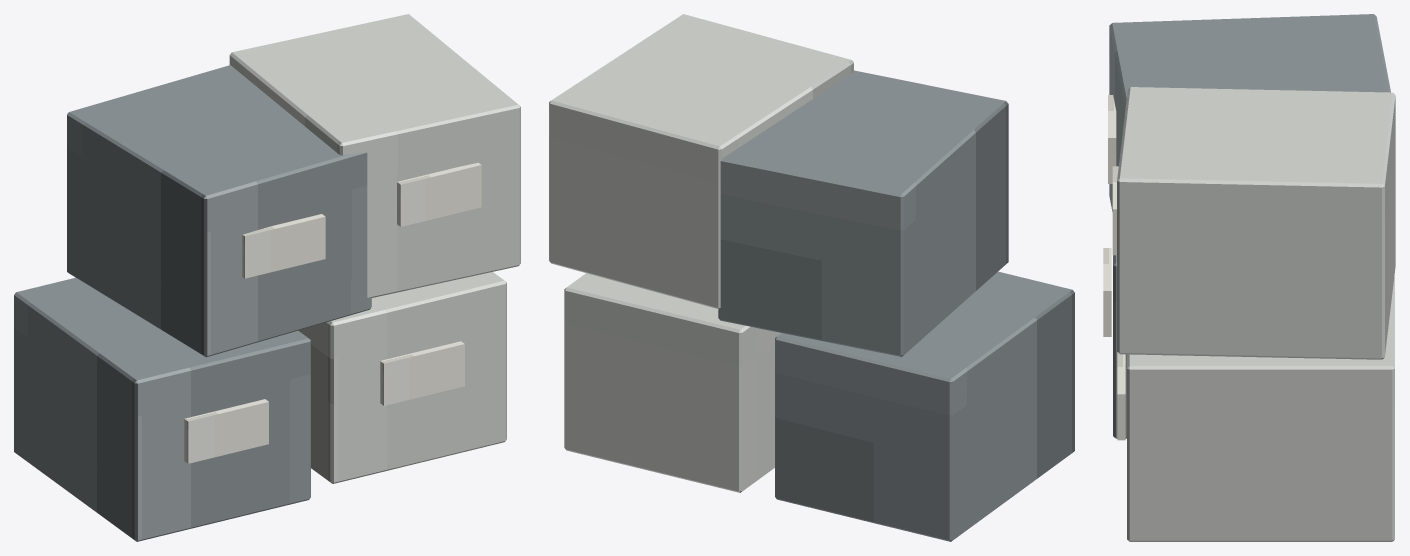
The model's file is office_file_boxes.glb.
3 views of the same model, side by side, from view 1: azimuth 30°, elevation 25°; view 2: azimuth 150°, elevation 25°; view 3: azimuth 270°, elevation 25° (orthographic). The views are drawn at different scales.
Visible parts, largest first — view 1: ArchiveBox_2, ArchiveBox_0, ArchiveBox_3, ArchiveBox_1, Label_0, Label_1, Label_3, Label_2; view 2: ArchiveBox_2, ArchiveBox_0, ArchiveBox_3, ArchiveBox_1; view 3: ArchiveBox_3, ArchiveBox_1, ArchiveBox_2, ArchiveBox_0, Label_0, Label_1, Label_2, Label_3.
Part boxes in pixels (bbox=[...]): ArchiveBox_2: bbox=[67, 65, 371, 357]; ArchiveBox_0: bbox=[14, 277, 310, 541]; ArchiveBox_3: bbox=[229, 14, 520, 297]; ArchiveBox_1: bbox=[298, 272, 506, 483]; Label_0: bbox=[184, 399, 268, 463]; Label_1: bbox=[380, 341, 464, 405]; Label_3: bbox=[397, 162, 481, 226]; Label_2: bbox=[242, 214, 325, 278]; ArchiveBox_2: bbox=[718, 70, 1008, 356]; ArchiveBox_0: bbox=[775, 271, 1074, 541]; ArchiveBox_3: bbox=[549, 14, 853, 309]; ArchiveBox_1: bbox=[564, 273, 781, 492]; ArchiveBox_3: bbox=[1117, 87, 1395, 359]; ArchiveBox_1: bbox=[1127, 277, 1394, 541]; ArchiveBox_2: bbox=[1109, 14, 1390, 211]; ArchiveBox_0: bbox=[1113, 255, 1126, 438]; Label_0: bbox=[1103, 248, 1111, 336]; Label_1: bbox=[1117, 352, 1125, 440]; Label_2: bbox=[1108, 95, 1116, 183]; Label_3: bbox=[1112, 166, 1118, 255].
Size of the model in its own units: 1.08 by 0.89 by 0.6323.
Materials: 1 (1 with a texture image).
